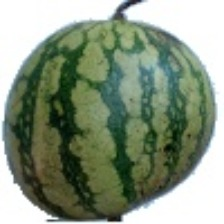watermelon: (50, 48, 217, 218)
